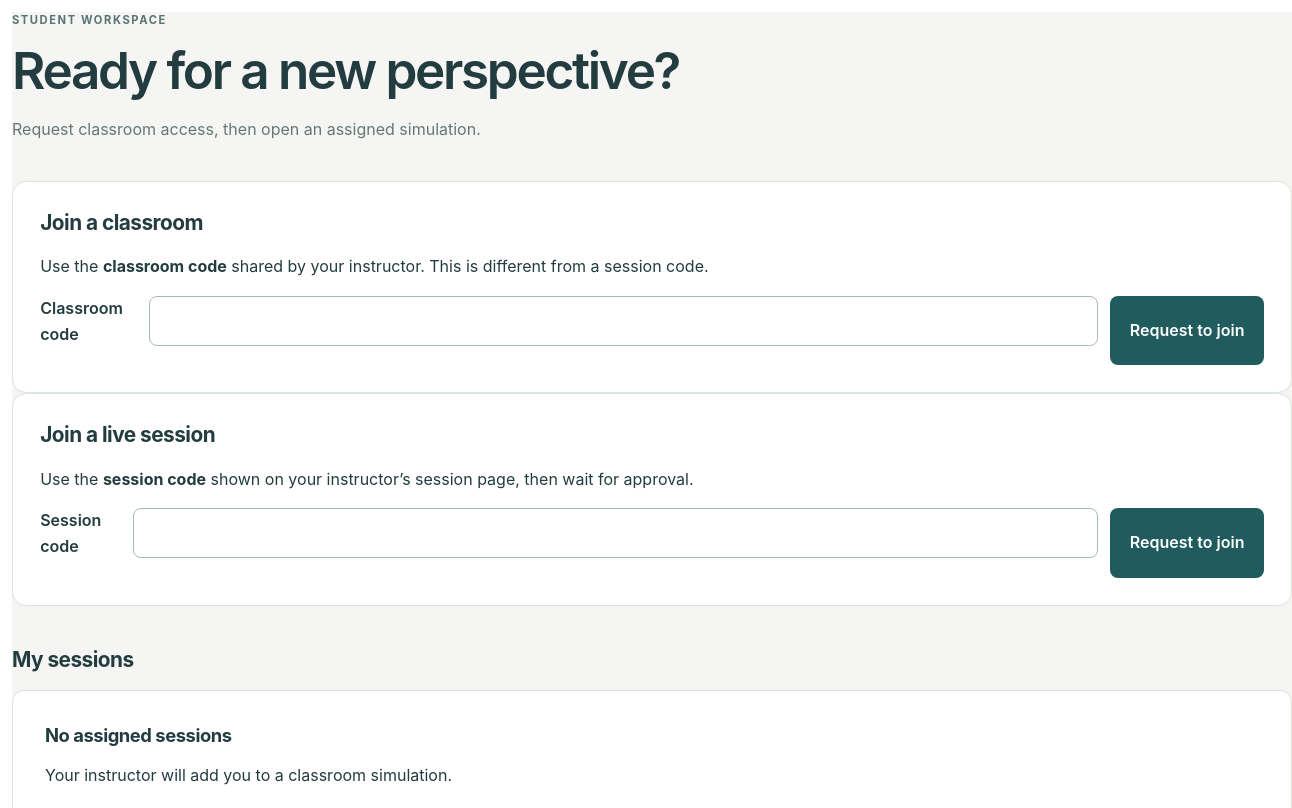
Test case: submits the correct classroom payload and recovers Pending from server requests
The image size is (1292, 808).
Type "code1234" into the field labelled "Classroom code".
click(624, 321); type("code1234")  # box [149,296,1098,346]
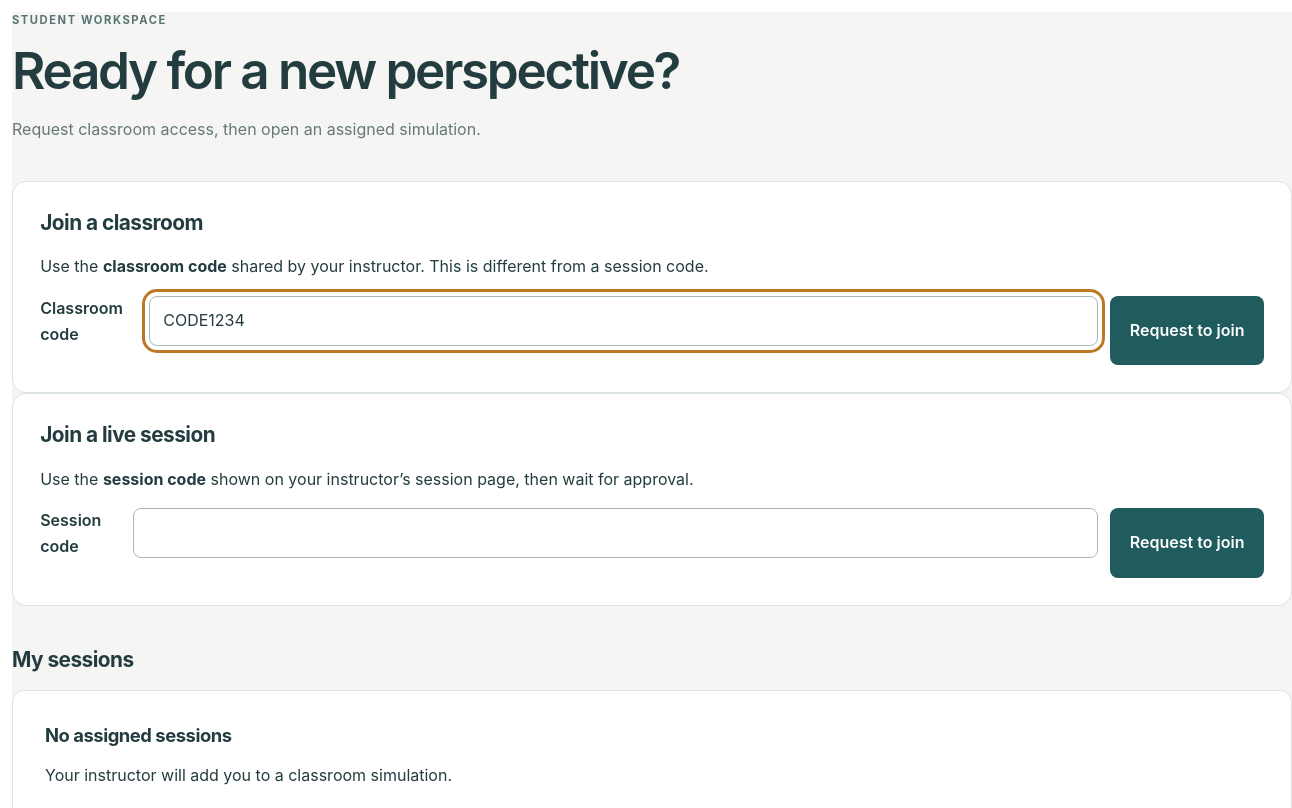
Click the 1st button "Request to join".
click(1187, 330)  # box [1110,296,1264,365]
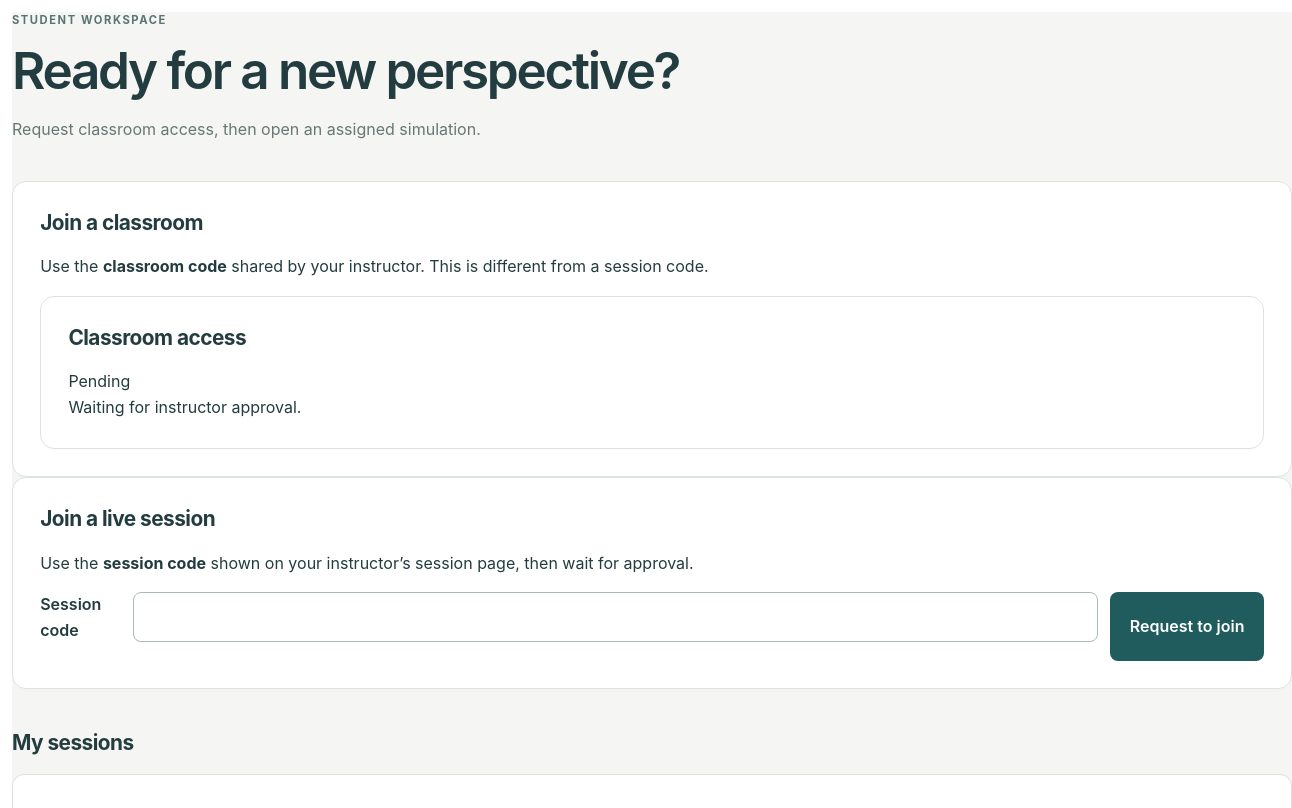
Expected: the text "Waiting for instructor approval." is shown, [68,397,302,417]
